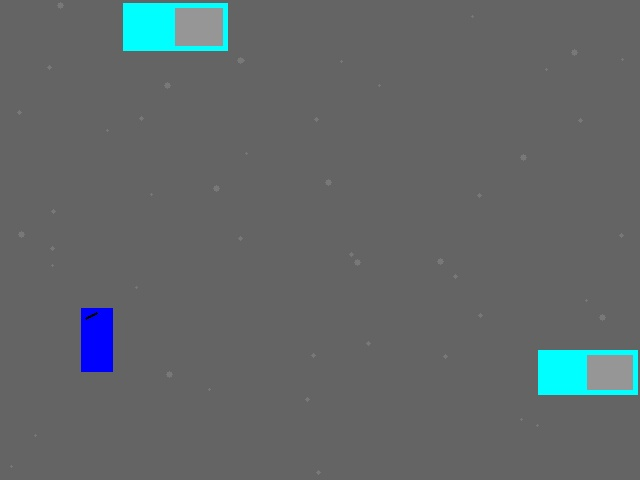motorcycle: (81, 308, 112, 371)
truck: (123, 3, 227, 50), (538, 350, 637, 394)
